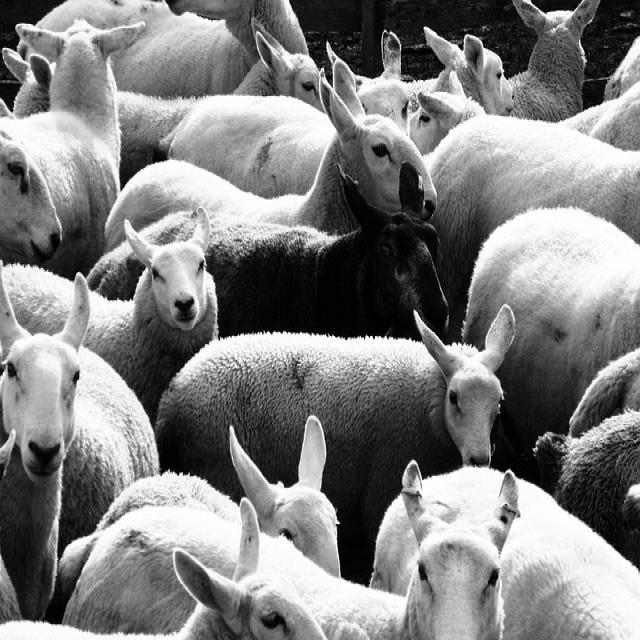goat: (155, 307, 515, 543), (105, 78, 436, 249), (0, 267, 159, 619), (424, 115, 640, 338), (205, 177, 448, 339), (84, 213, 218, 422), (4, 267, 72, 333), (88, 242, 142, 299)
